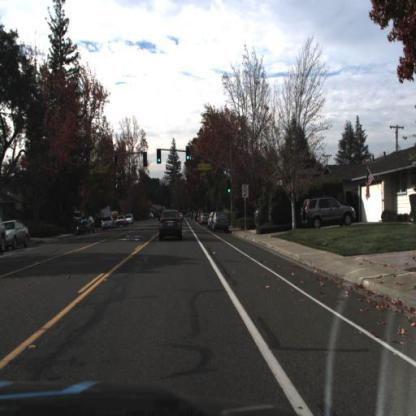car: (300, 195, 356, 229), (0, 220, 30, 254), (157, 207, 184, 243), (211, 206, 231, 234), (75, 214, 93, 236), (251, 202, 263, 230), (101, 215, 115, 231), (115, 213, 127, 228), (125, 212, 133, 224)
trafficLight-Green: (184, 144, 191, 162), (156, 146, 162, 164), (156, 148, 162, 166), (184, 145, 191, 160), (225, 179, 232, 194), (226, 179, 231, 195)
